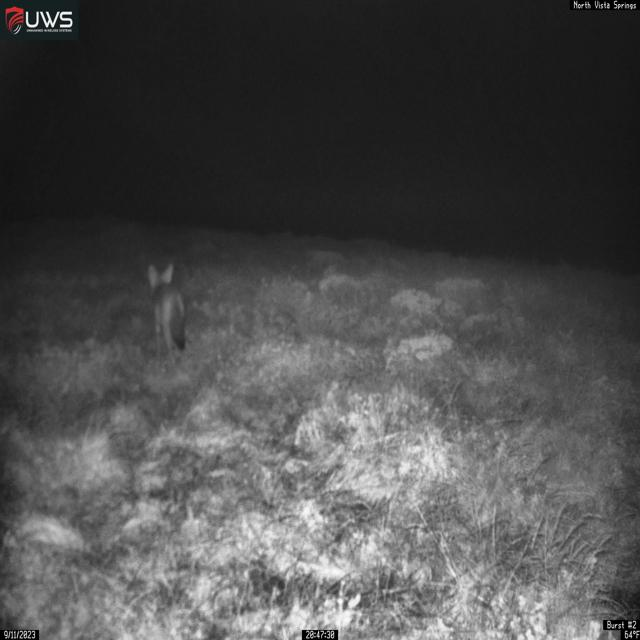coyote: (147, 262, 187, 367)
